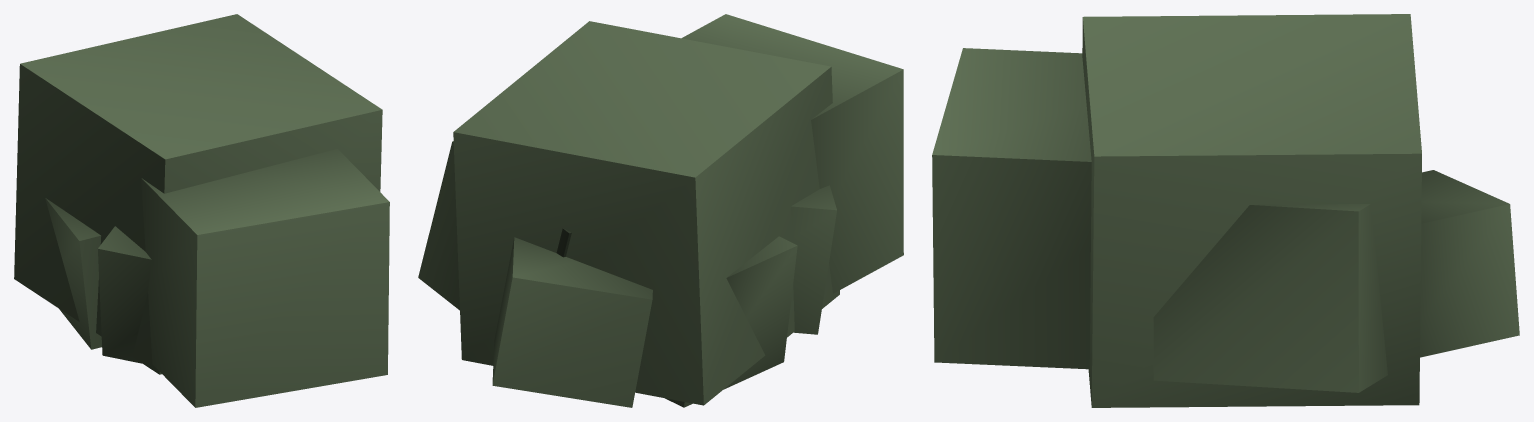
The model's file is shrub_mass.lod2.glb.
3 renders of one model, left to right at view 1: azimuth 30°, elevation 25°; view 2: azimuth 150°, elevation 25°; view 3: azimuth 270°, elevation 25°, orthographic. The views are drawn at different scales.
Visible parts, largest first — view 1: props_shrub_mass.lod2; view 2: props_shrub_mass.lod2; view 3: props_shrub_mass.lod2.
Part boxes in pixels (bbox=[...]): props_shrub_mass.lod2: bbox=[14, 14, 389, 407]; props_shrub_mass.lod2: bbox=[418, 14, 903, 407]; props_shrub_mass.lod2: bbox=[932, 14, 1519, 407].
Size of the model in its own units: 1.24 by 0.8828 by 1.7.
